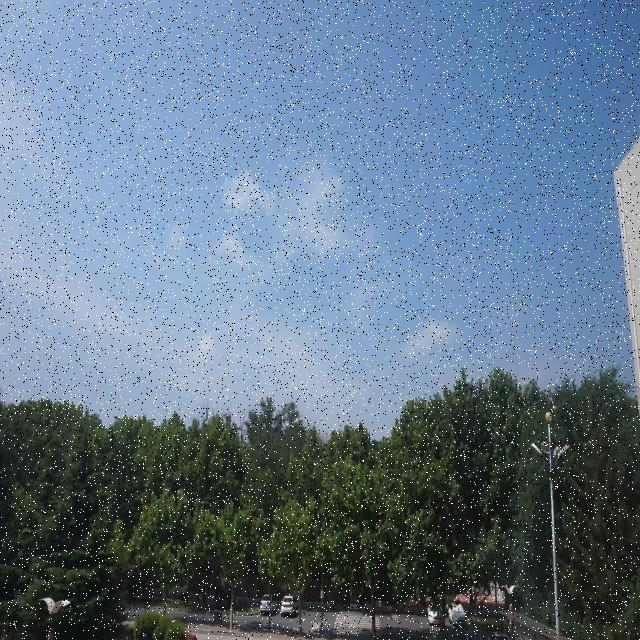UAV: (438, 383, 444, 387)
